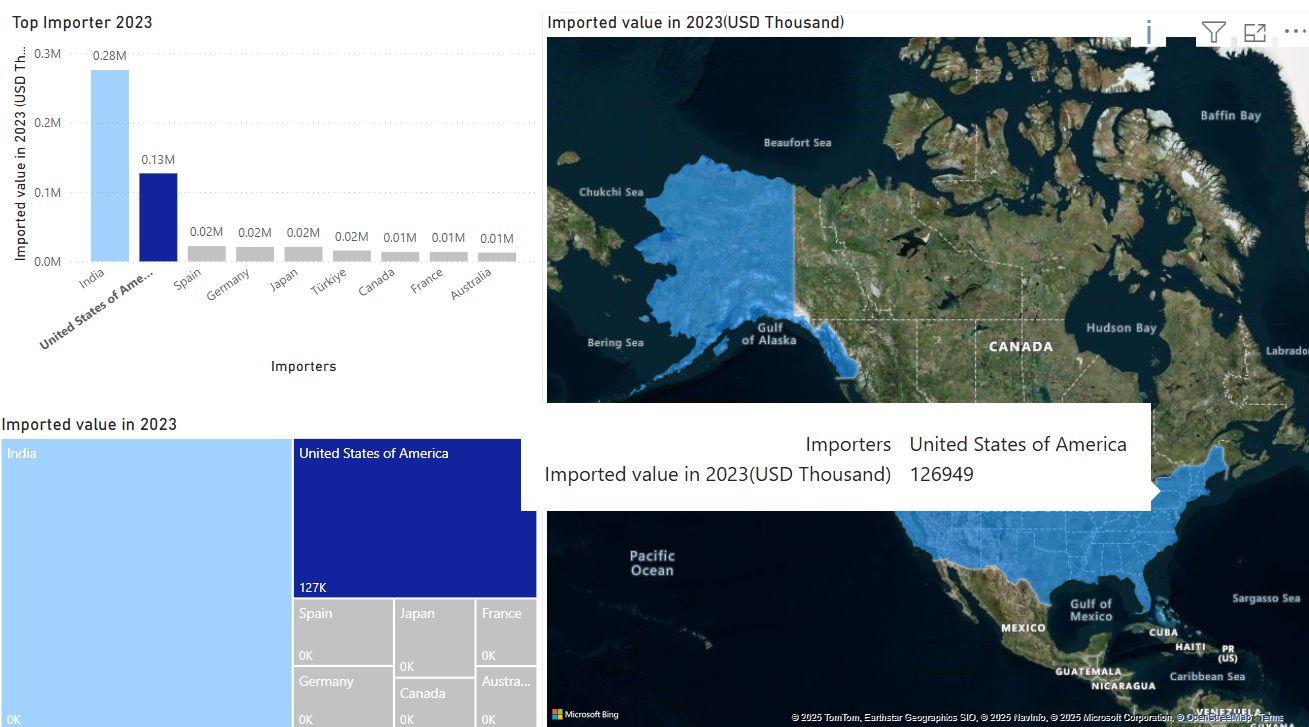

What the dashboard file says about the page in this screenshot:
{"tool":"powerbi","page":{"name":"6310 Import","canvas":[1280,720],"ordinal":3},"visuals":[{"type":"clusteredColumnChart","title":"Top Importer 2023","fields":{"Category":["6310 Import.Importers"],"Y":["Sum(6310 Import.Imported value in 2023)"]},"box":[10.2,18.9,519.6,356.6],"z":0},{"type":"filledMap","title":"Imported value in 2023(USD Thousand) ","fields":{"Category":["6310 Import.Importers"]},"box":[529.8,18.9,749.6,701.6],"z":1000},{"type":"treemap","title":"Imported value in 2023","fields":{"Group":["6310 Import.Importers"],"Values":["Sum(6310 Import.Imported value in 2023)"]},"box":[0,409.7,529.5,310.9],"z":2000}]}

Visuals, with their boxes in screenshot pixels (x1, y1, x2, y2), scaled from the page's 1280x720 canvas onto the 1309x727 screenshot:
"Top Importer 2023" clusteredColumnChart: detection(10, 19, 542, 379)
"Imported value in 2023(USD Thousand) " filledMap: detection(542, 19, 1308, 726)
"Imported value in 2023" treemap: detection(0, 414, 541, 726)
